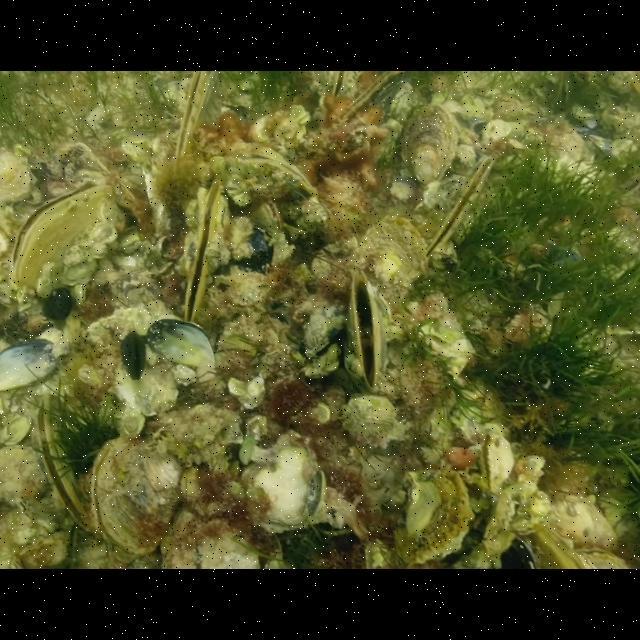Oyster-Closed: (90, 436, 184, 556), (354, 214, 432, 312), (399, 102, 461, 190), (338, 71, 419, 131)
Oyster-Open: (8, 178, 118, 292), (405, 469, 513, 566), (34, 391, 92, 532), (423, 154, 499, 260), (225, 144, 319, 218), (182, 180, 226, 324), (345, 272, 391, 396), (171, 71, 223, 167), (477, 427, 515, 487), (244, 200, 284, 237), (330, 71, 350, 101)
